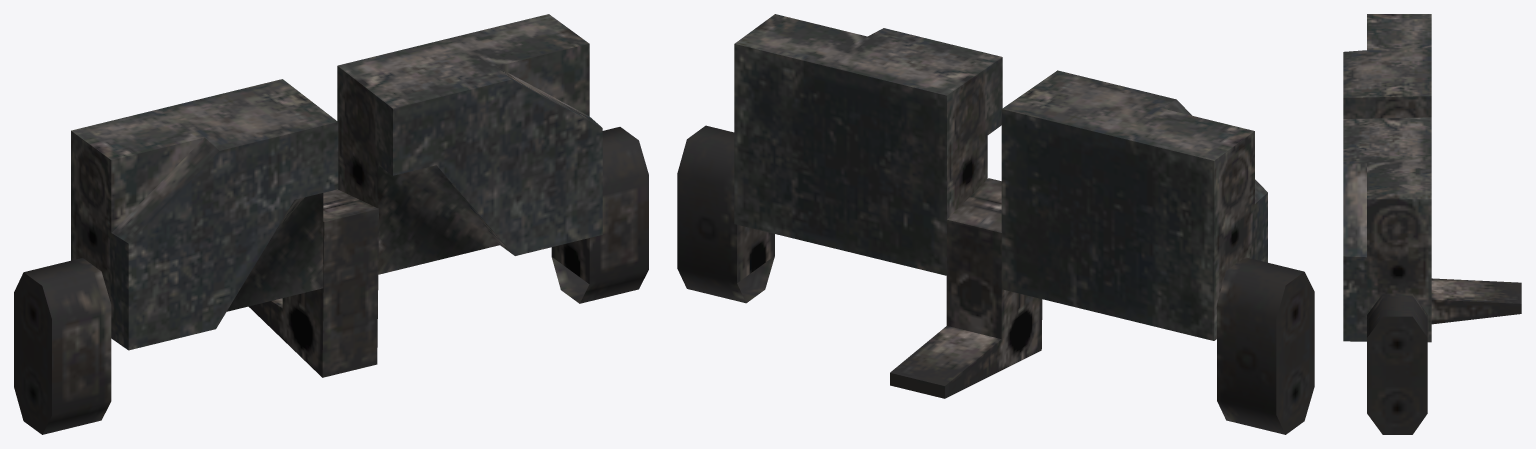
3 renders of one model, left to right at view 1: azimuth 30°, elevation 25°; view 2: azimuth 150°, elevation 25°; view 3: azimuth 270°, elevation 25°, orthographic. The views are drawn at different scales.
Visible parts, largest first — view 1: set_0_group_0; view 2: set_0_group_0; view 3: set_0_group_0.
Boxes of the visible parts, box(x1,y1,x2,y2) form: set_0_group_0: box(14, 14, 648, 434); set_0_group_0: box(677, 14, 1314, 434); set_0_group_0: box(1343, 14, 1521, 434).
Bounding box in the file's own units: 0.5645 × 0.2438 × 0.1841.
1 material, 1 textured.
